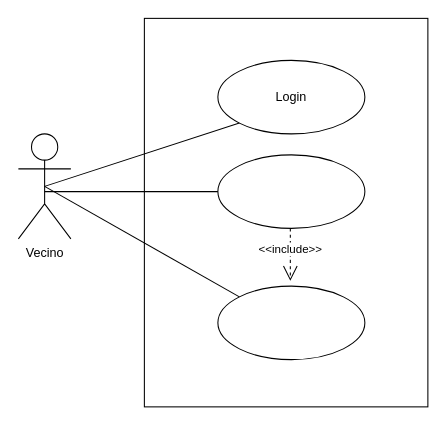
This 446x425 diagram has some shape labels left out. Here are the shapes that lost their labels. From the top down, the centre of each, then its label:
the point at 291,191: Agregar nuevo residuo
the point at 291,322: Ver estadísticas propias
